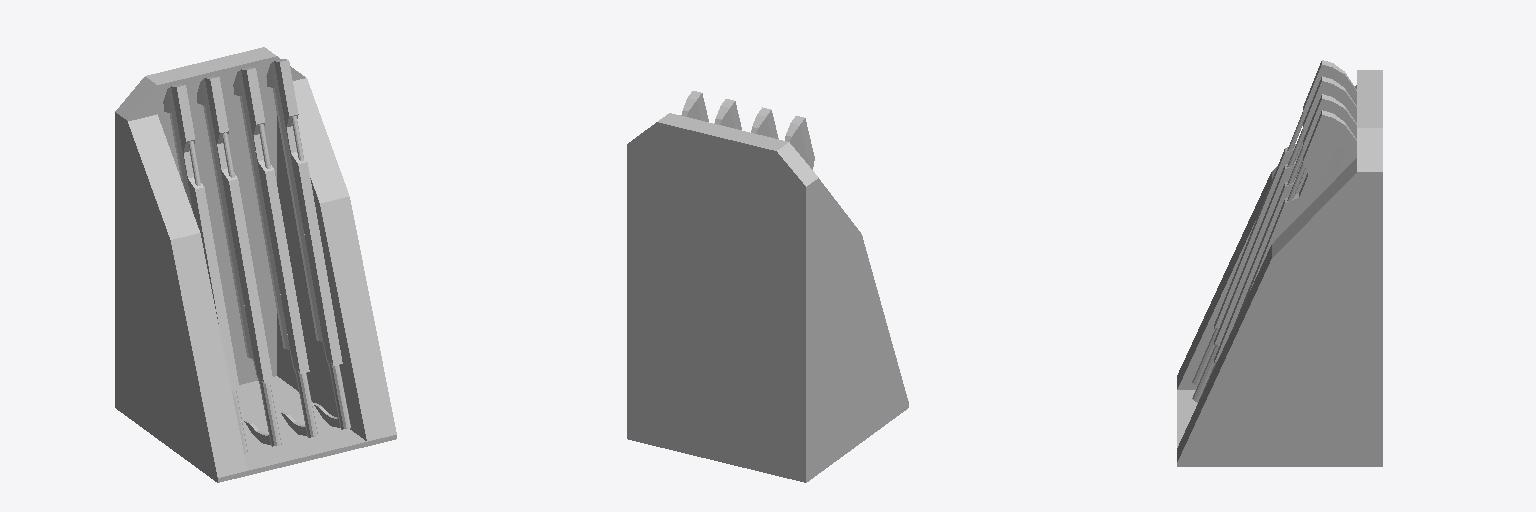
File: Blade rack.obj
3 views of the same model, side by side, from view 1: azimuth 30°, elevation 25°; view 2: azimuth 150°, elevation 25°; view 3: azimuth 270°, elevation 25° (orthographic).
Visible parts, largest first — view 1: Rack, Exicutioners_blade003, Exicutioners_blade004, Exicutioners_blade005, Exicutioners_blade002; view 2: Rack, Exicutioners_blade002, Exicutioners_blade003, Exicutioners_blade005, Exicutioners_blade004; view 3: Rack, Exicutioners_blade005, Exicutioners_blade003, Exicutioners_blade002, Exicutioners_blade004.
Part boxes in pixels (left/top/right/bottom): Rack: left=115, top=47, right=396, bottom=482; Exicutioners_blade003: left=197, top=76, right=281, bottom=446; Exicutioners_blade004: left=233, top=67, right=317, bottom=437; Exicutioners_blade005: left=266, top=59, right=350, bottom=429; Exicutioners_blade002: left=163, top=84, right=247, bottom=453; Rack: left=627, top=113, right=908, bottom=482; Exicutioners_blade002: left=785, top=116, right=814, bottom=169; Exicutioners_blade003: left=751, top=107, right=778, bottom=138; Exicutioners_blade005: left=681, top=91, right=708, bottom=121; Exicutioners_blade004: left=714, top=99, right=741, bottom=129; Rack: left=1177, top=70, right=1382, bottom=466; Exicutioners_blade005: left=1234, top=110, right=1356, bottom=324; Exicutioners_blade003: left=1192, top=76, right=1356, bottom=402; Exicutioners_blade002: left=1192, top=60, right=1356, bottom=385; Exicutioners_blade004: left=1196, top=94, right=1356, bottom=406.
Size of the model in its own units: 219 by 392 by 217.